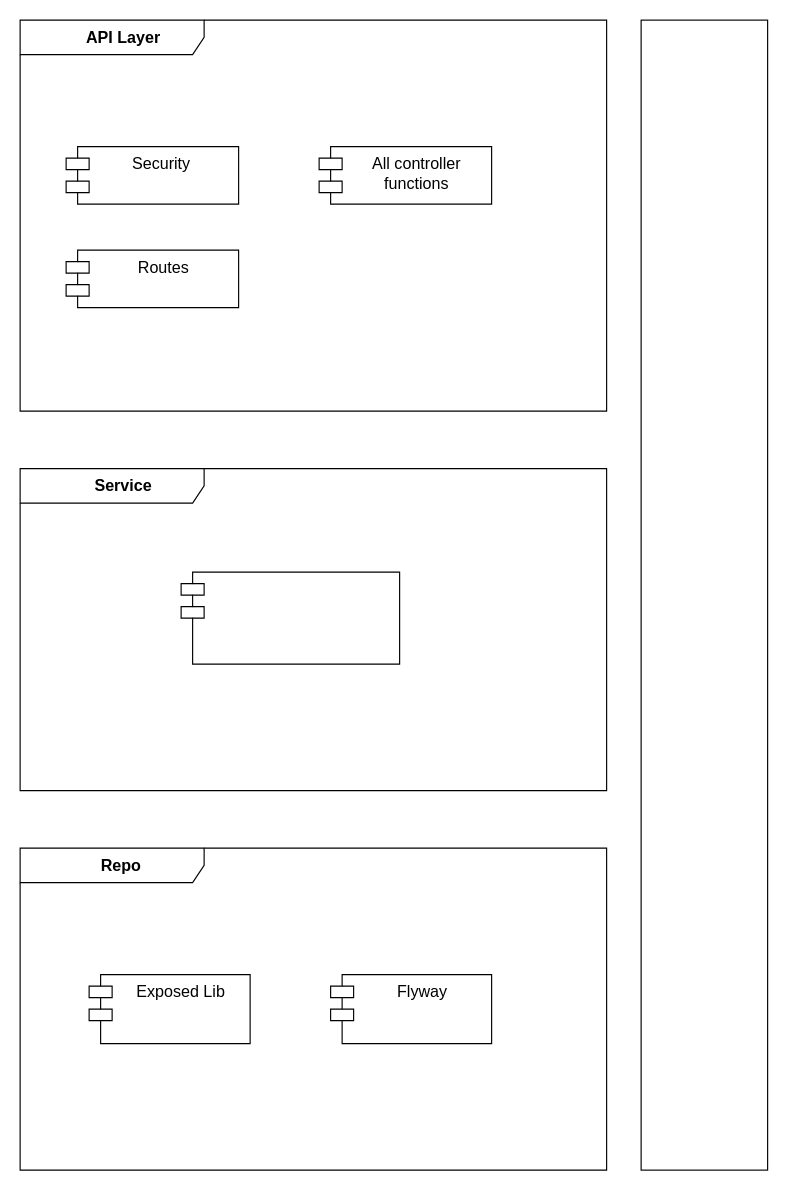
Image size: 788x1190. Some labels were removed from this diagram. Here are the shapes that lost their labels. From the top down, the centre of each, then its label:
At point 704,594: "Koin DI".
At point 290,617: "Bunch of classes implementing business logics".
